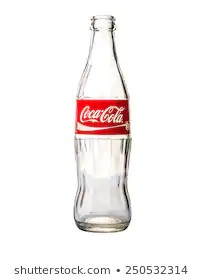coke-glass-bottle: (70, 7, 135, 233)
